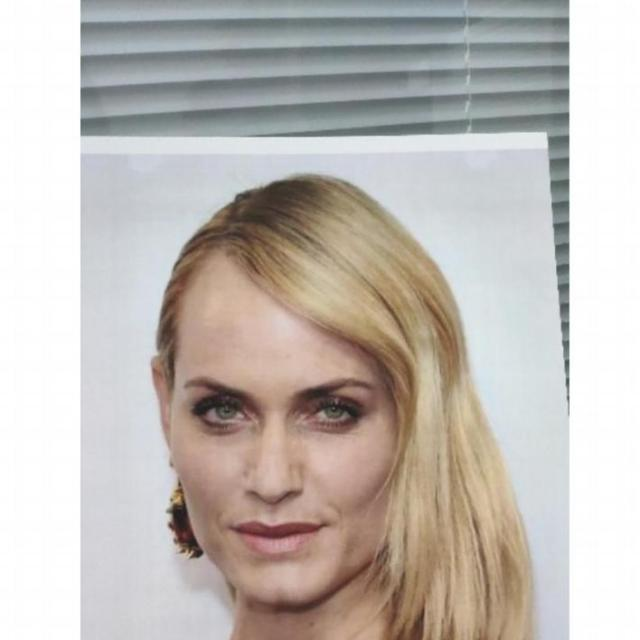photo: (80, 128, 568, 640)
